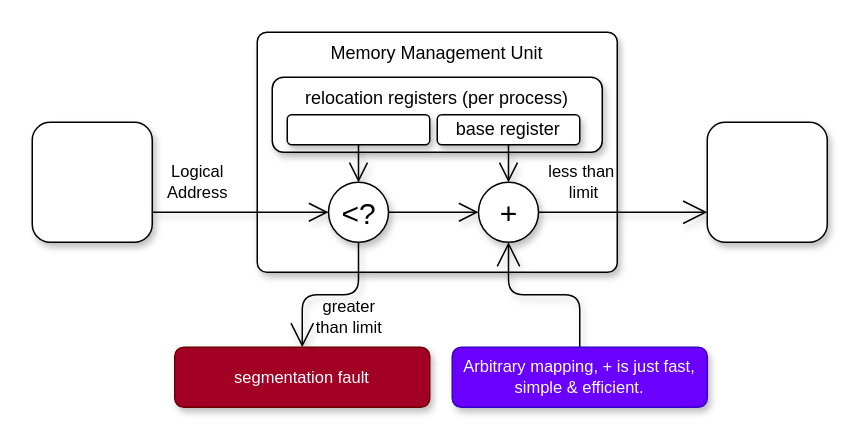
Image size: 863x444. Some labels were removed from this diagram. Here are the shapes that lost their labels. From the top down, the centre of each, then its label:
At pixel 359 131: "limit register".
At pixel 93 184: "Memory access instruction".
At pixel 768 184: "Memory".
